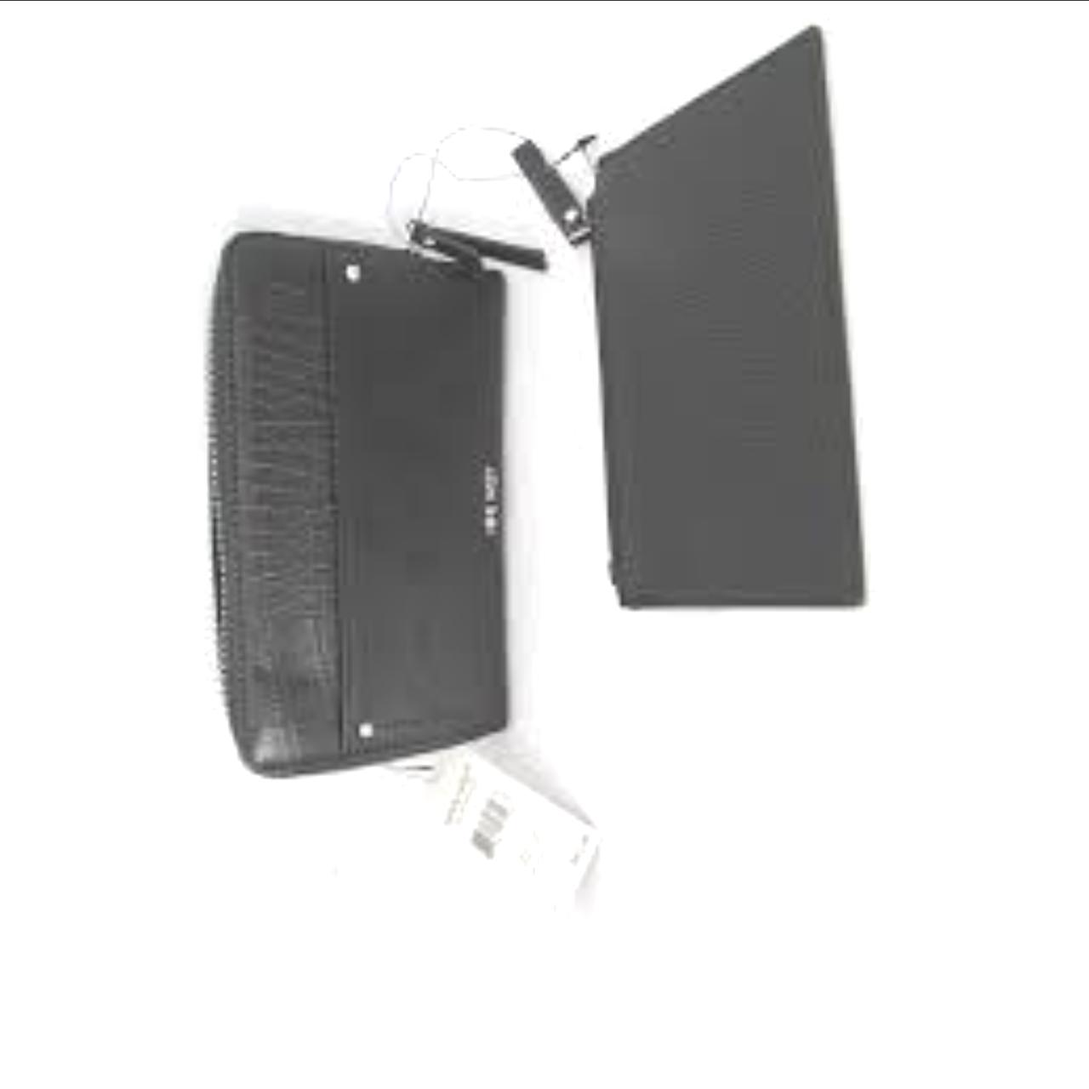wallet: (202, 234, 547, 772), (604, 48, 860, 595)
